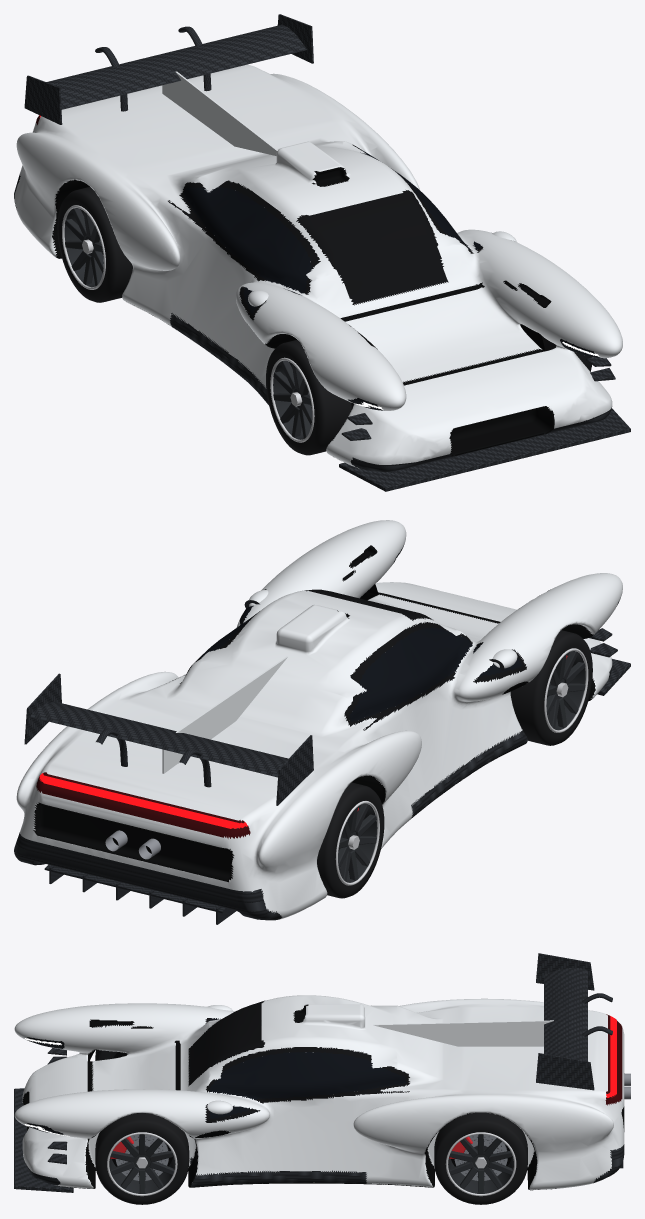
The model's file is optimized_gt_racecar_v4_LOD0.glb.
The picture shows the model from 3 angles, top to bottom: view 1: azimuth 30°, elevation 25°; view 2: azimuth 150°, elevation 25°; view 3: azimuth 270°, elevation 25°; orthographic projection. The views are drawn at different scales.
Visible parts, largest first — view 1: Body_Paint, Window_Trim, GT_Rear_Wing, Body_Glass, Intakes_And_Vents, Front_Canard_R, Wheel_FR_Tyre_Mesh, Wheel_RR_Tyre_Mesh, Shark_Fin, Body_Carbon, Wheel_FR_Rim_Mesh, Wheel_RR_Rim_Mesh (+2 smaller); view 2: Body_Paint, GT_Rear_Wing, Intakes_And_Vents, Body_Carbon, Body_Glass, Wheel_FR_Tyre_Mesh, Window_Trim, Taillight_Lenses, Wheel_RR_Tyre_Mesh, Front_Canard_R, Shark_Fin, Wheel_FR_Rim_Mesh (+4 smaller); view 3: Body_Paint, Body_Glass, GT_Rear_Wing, Window_Trim, Wheel_RL_Tyre_Mesh, Wheel_FL_Tyre_Mesh, Shark_Fin, Intakes_And_Vents, Body_Carbon, Wheel_FL_Rim_Mesh, Wheel_RL_Rim_Mesh, Front_Canard_R (+6 smaller).
Boxes of the visible parts, left/top/right/bottom form: Body_Paint: left=14, top=64, right=622, bottom=468; Window_Trim: left=168, top=144, right=483, bottom=320; GT_Rear_Wing: left=24, top=14, right=313, bottom=124; Body_Glass: left=183, top=149, right=481, bottom=314; Intakes_And_Vents: left=52, top=167, right=554, bottom=456; Front_Canard_R: left=339, top=357, right=630, bottom=491; Wheel_FR_Tyre_Mesh: left=266, top=339, right=351, bottom=455; Wheel_RR_Tyre_Mesh: left=57, top=187, right=132, bottom=302; Shark_Fin: left=162, top=71, right=277, bottom=155; Body_Carbon: left=14, top=174, right=612, bottom=472; Wheel_FR_Rim_Mesh: left=273, top=360, right=312, bottom=439; Wheel_RR_Rim_Mesh: left=64, top=208, right=103, bottom=287; Body_Paint: left=16, top=520, right=622, bottom=919; GT_Rear_Wing: left=24, top=673, right=313, bottom=805; Intakes_And_Vents: left=33, top=545, right=595, bottom=882; Body_Carbon: left=14, top=667, right=611, bottom=920; Body_Glass: left=197, top=605, right=522, bottom=722; Wheel_FR_Tyre_Mesh: left=510, top=630, right=592, bottom=745; Window_Trim: left=172, top=589, right=526, bottom=730; Taillight_Lenses: left=36, top=772, right=250, bottom=838; Wheel_RR_Tyre_Mesh: left=317, top=782, right=384, bottom=898; Front_Canard_R: left=44, top=628, right=630, bottom=924; Shark_Fin: left=162, top=656, right=287, bottom=773; Wheel_FR_Rim_Mesh: left=546, top=651, right=585, bottom=730; Body_Paint: left=14, top=995, right=624, bottom=1189; Body_Glass: left=209, top=1018, right=406, bottom=1118; GT_Rear_Wing: left=536, top=953, right=612, bottom=1090; Window_Trim: left=188, top=1000, right=409, bottom=1122; Wheel_RL_Tyre_Mesh: left=434, top=1112, right=527, bottom=1204; Wheel_FL_Tyre_Mesh: left=95, top=1113, right=189, bottom=1204; Shark_Fin: left=373, top=1020, right=553, bottom=1046; Intakes_And_Vents: left=22, top=1004, right=624, bottom=1190; Body_Carbon: left=25, top=1144, right=624, bottom=1186; Wheel_FL_Rim_Mesh: left=109, top=1134, right=175, bottom=1193; Wheel_RL_Rim_Mesh: left=448, top=1134, right=513, bottom=1193; Front_Canard_R: left=14, top=1048, right=623, bottom=1192.
Size of the model in its own units: 2.02 by 1.26 by 4.73.
16 materials, 2 textured.
